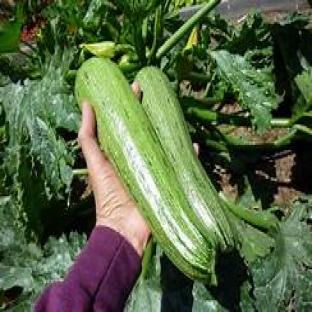Zucchini: (76, 58, 216, 283), (136, 67, 235, 250)
